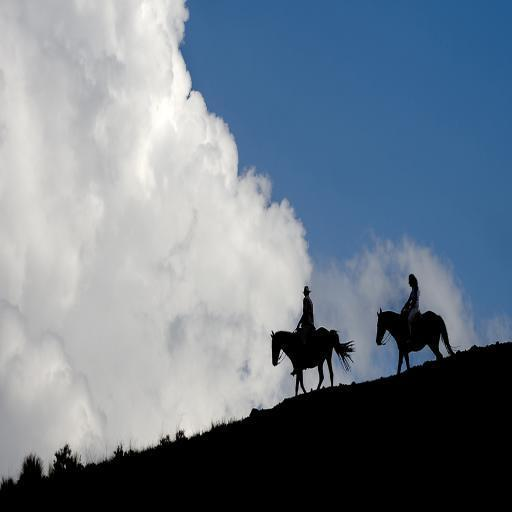horse: (268, 320, 356, 398), (372, 303, 454, 377)
